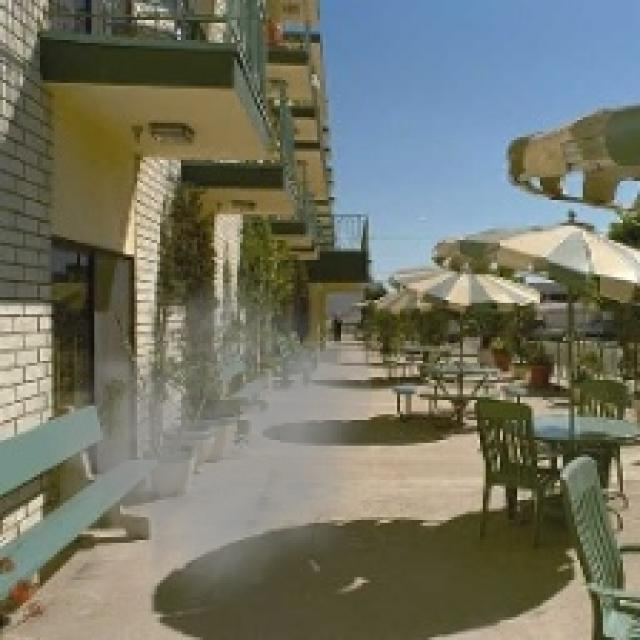Smoke: (19, 262, 372, 614)
